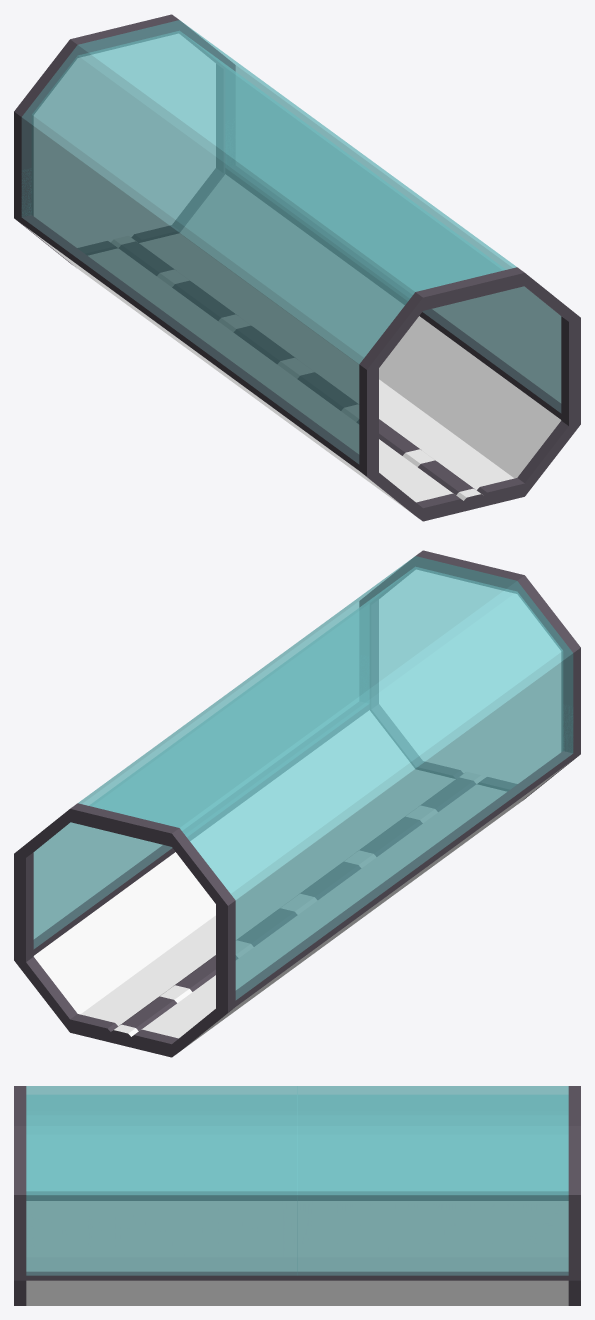
File: TunnelSection02.fbx
3 views of the same model, one above another, from view 1: azimuth 30°, elevation 25°; view 2: azimuth 150°, elevation 25°; view 3: azimuth 270°, elevation 25° (orthographic). The views are drawn at different scales.
Visible parts, largest first — view 1: TunnelSection02; view 2: TunnelSection02; view 3: TunnelSection02.
Part boxes in pixels (bbox=[...]): TunnelSection02: bbox=[14, 14, 580, 521]; TunnelSection02: bbox=[14, 550, 580, 1057]; TunnelSection02: bbox=[14, 1086, 580, 1305].
Bounding box in the file's own units: 42 × 42 × 120.
